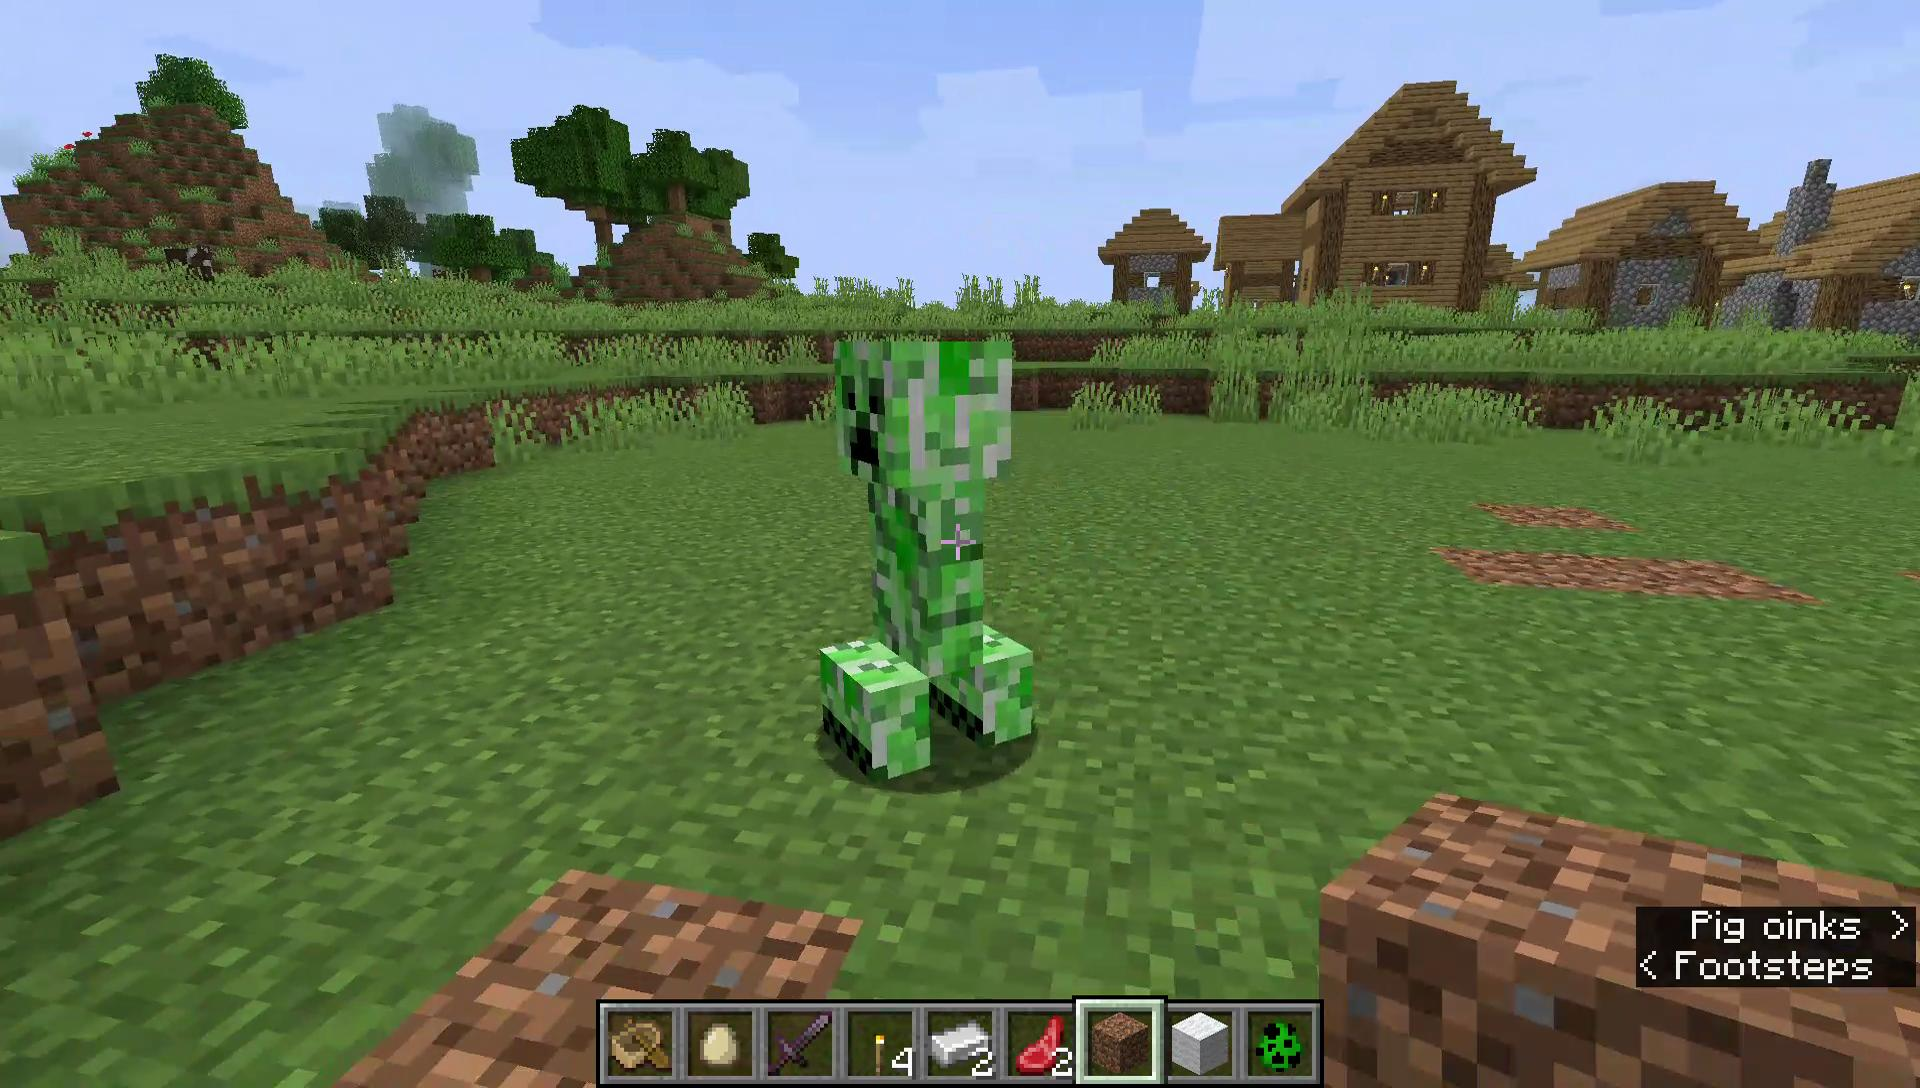cow: (164, 244, 220, 286)
creeper: (811, 328, 1039, 787)
